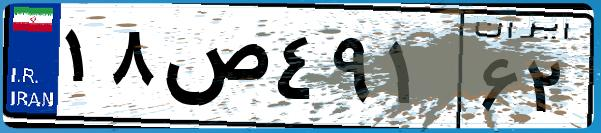1: (385, 28, 445, 110), (57, 26, 110, 100)
2: (525, 38, 570, 115)
4: (270, 28, 330, 110)
6: (475, 38, 525, 113)
8: (110, 28, 158, 98)
9: (330, 28, 385, 110)
ص: (158, 20, 270, 120)
